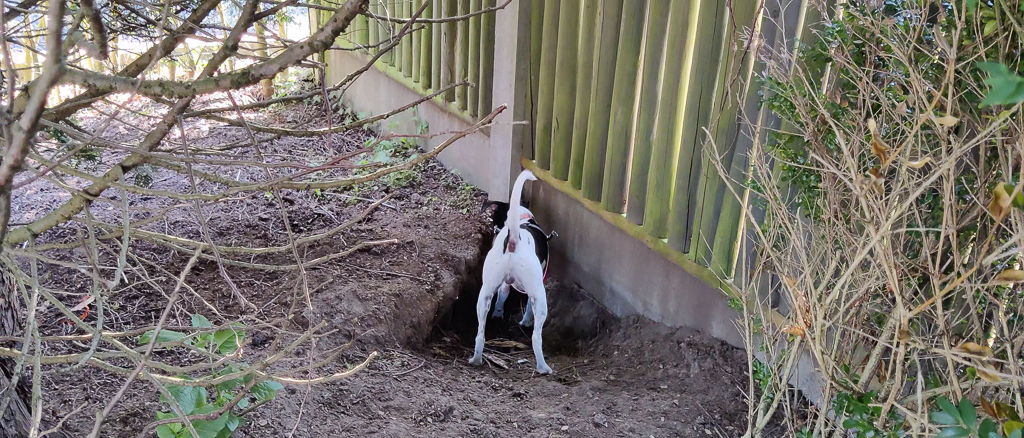Dog: (464, 163, 568, 384)
